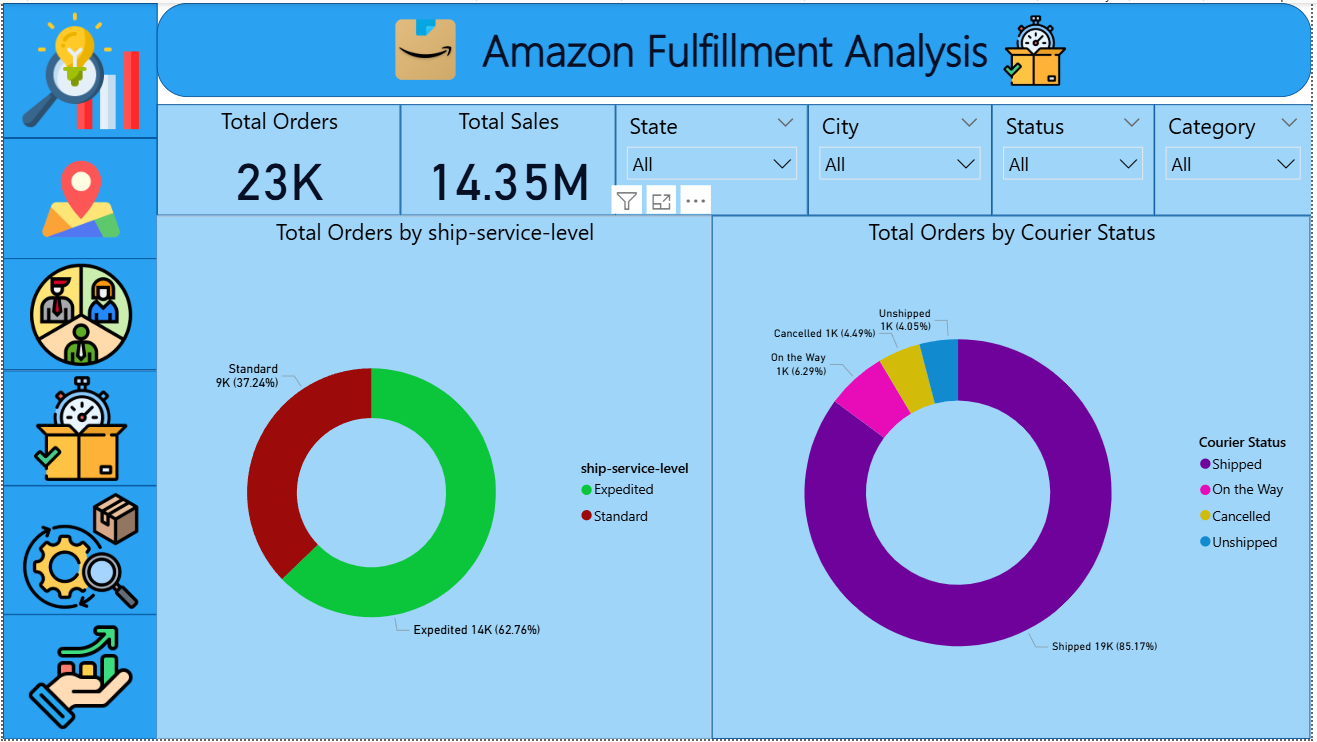

What the dashboard file says about the page in this screenshot:
{"tool":"powerbi","page":{"name":"Fulfillment Method","canvas":[1280,720],"ordinal":2},"visuals":[{"type":"image","box":[0,472,150.9,126.2],"z":0},{"type":"image","box":[0,249.7,150.9,109.8],"z":1000},{"type":"image","box":[0,0,150.9,131.7],"z":2000},{"type":"image","box":[0,359.5,150.9,112.5],"z":3000},{"type":"image","box":[0,131.7,150.9,118],"z":4000},{"type":"image","box":[0,598.3,150.9,122.1],"z":5000},{"type":"textbox","box":[150.4,0,1129.9,91.7],"z":6000},{"type":"image","box":[952.6,7.3,113.7,78.3],"z":7000},{"type":"slicer","fields":{"Values":["Amazon Sale Report.ship-state"]},"box":[599.2,99,188.3,108.8],"z":8000},{"type":"slicer","fields":{"Values":["Amazon Sale Report.ship-city"]},"box":[787.5,99,179.8,108.8],"z":9000},{"type":"slicer","fields":{"Values":["Amazon Sale Report.Status"]},"box":[967.3,99,159,108.8],"z":10000},{"type":"slicer","fields":{"Values":["Amazon Sale Report.Category"]},"box":[1126.2,99,154.1,108.8],"z":11000},{"type":"card","title":"Total Orders","fields":{"Values":["Amazon Sale Report.Total Orders"]},"box":[150.4,99,238.5,108.8],"z":12000},{"type":"card","title":"Total Sales","fields":{"Values":["Amazon Sale Report.Total Sales"]},"box":[388.9,99,210.3,108.8],"z":13000},{"type":"donutChart","fields":{"Y":["Amazon Sale Report.Total Orders"],"Category":["Amazon Sale Report.ship-service-level"]},"box":[150.4,207.9,542.9,512.4],"z":14000},{"type":"donutChart","fields":{"Y":["Amazon Sale Report.Total Orders"],"Category":["Amazon Sale Report.Courier Status"]},"box":[693.3,207.9,585.7,512.4],"z":15000},{"type":"image","box":[349.7,0,127.2,91.7],"z":16000}]}

Visuals, with their boxes in screenshot pixels (x1, y1, x2, y2), scaled from the page's 1280x720 canvas onto the 1317x742 screenshot:
image: 0:486:155:616
image: 0:257:155:370
image: 0:0:155:136
image: 0:370:155:486
image: 0:136:155:257
image: 0:617:155:741
textbox: 155:0:1316:95
image: 980:8:1097:88
slicer - Amazon Sale Report.ship-state: 617:102:810:214
slicer - Amazon Sale Report.ship-city: 810:102:995:214
slicer - Amazon Sale Report.Status: 995:102:1159:214
slicer - Amazon Sale Report.Category: 1159:102:1316:214
"Total Orders" card: 155:102:400:214
"Total Sales" card: 400:102:617:214
donutChart - Amazon Sale Report.Total Orders x Amazon Sale Report.ship-service-level: 155:214:713:741
donutChart - Amazon Sale Report.Total Orders x Amazon Sale Report.Courier Status: 713:214:1316:741
image: 360:0:491:95
